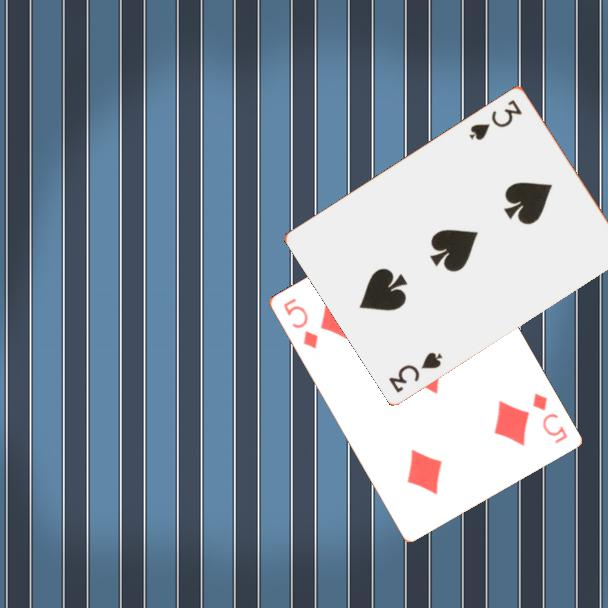d05: (279, 294, 321, 352), (528, 389, 570, 446)
s03: (465, 96, 525, 143), (385, 348, 445, 395)
